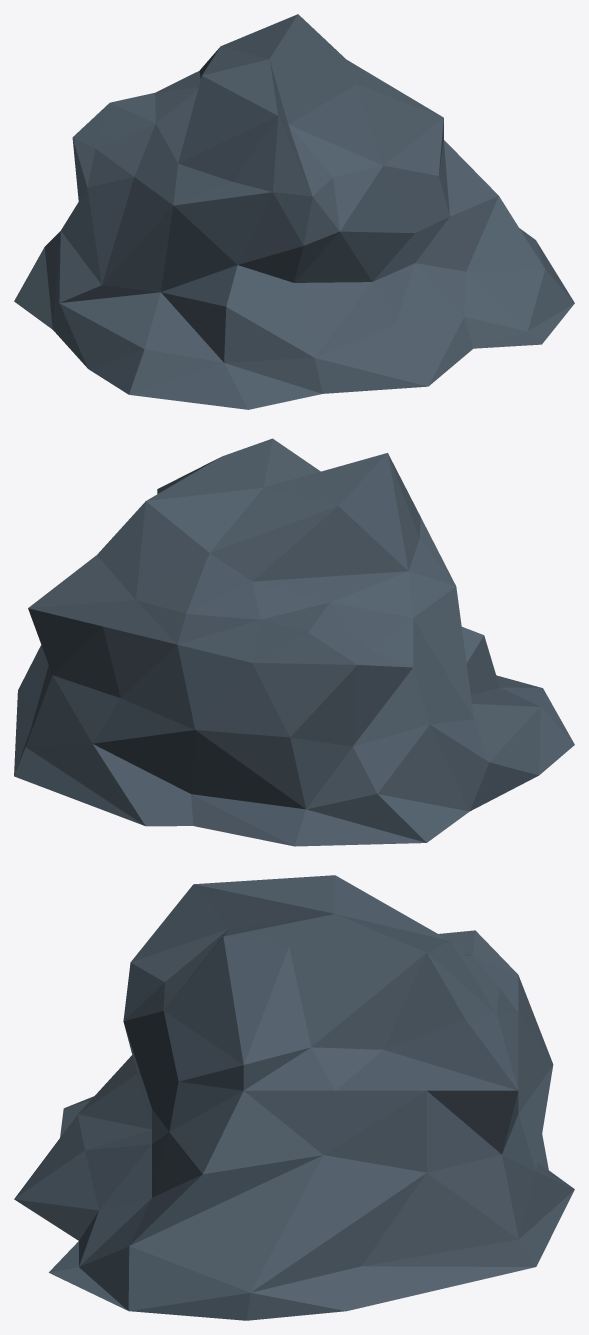
The model's file is Rock5.fbx.
The picture shows the model from 3 angles, top to bottom: view 1: azimuth 30°, elevation 25°; view 2: azimuth 150°, elevation 25°; view 3: azimuth 270°, elevation 25°; orthographic projection. The views are drawn at different scales.
Parts seen in each view (by area): view 1: bilalwasright; view 2: bilalwasright; view 3: bilalwasright.
Boxes of the visible parts, x1,y1,x2,y2 form: bilalwasright: [14, 14, 574, 409]; bilalwasright: [14, 438, 574, 846]; bilalwasright: [14, 875, 574, 1320].
Size of the model in its own units: 5.35 by 2.65 by 4.93.
